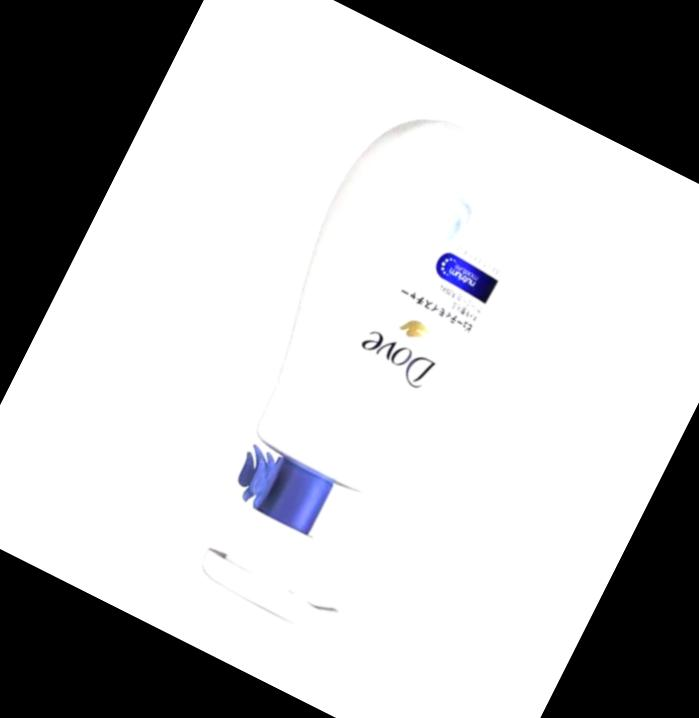cosmetic: (147, 82, 575, 651)
